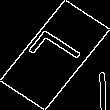L_SE: (22, 28, 88, 82)
